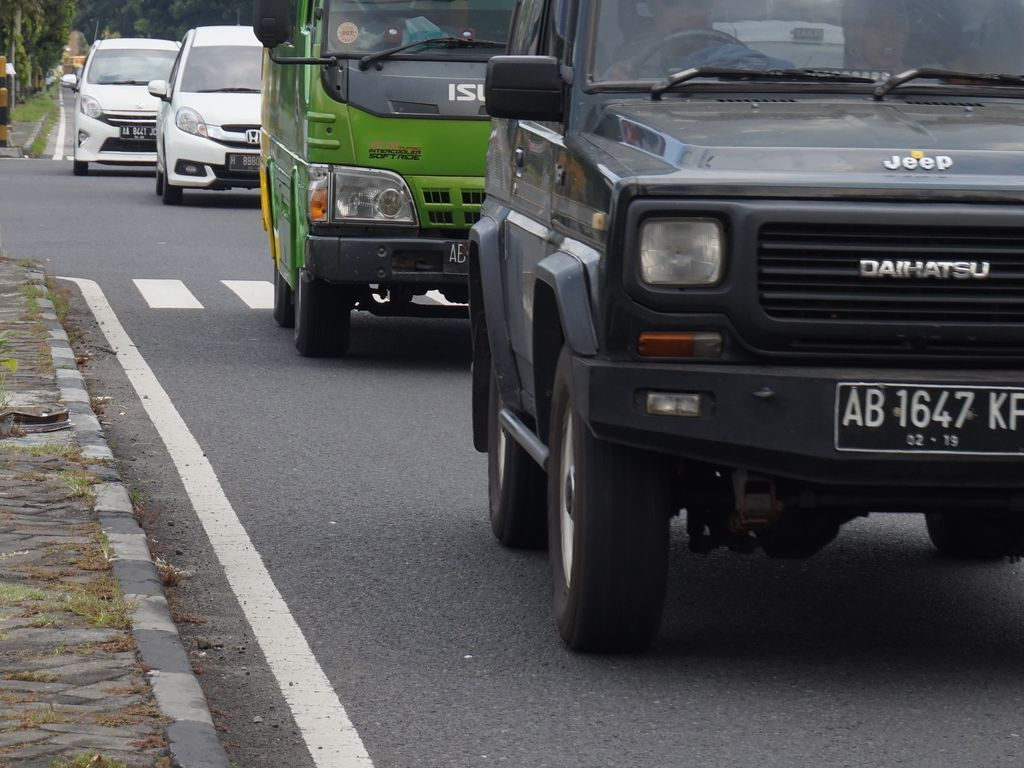plate: (840, 388, 1024, 448)
